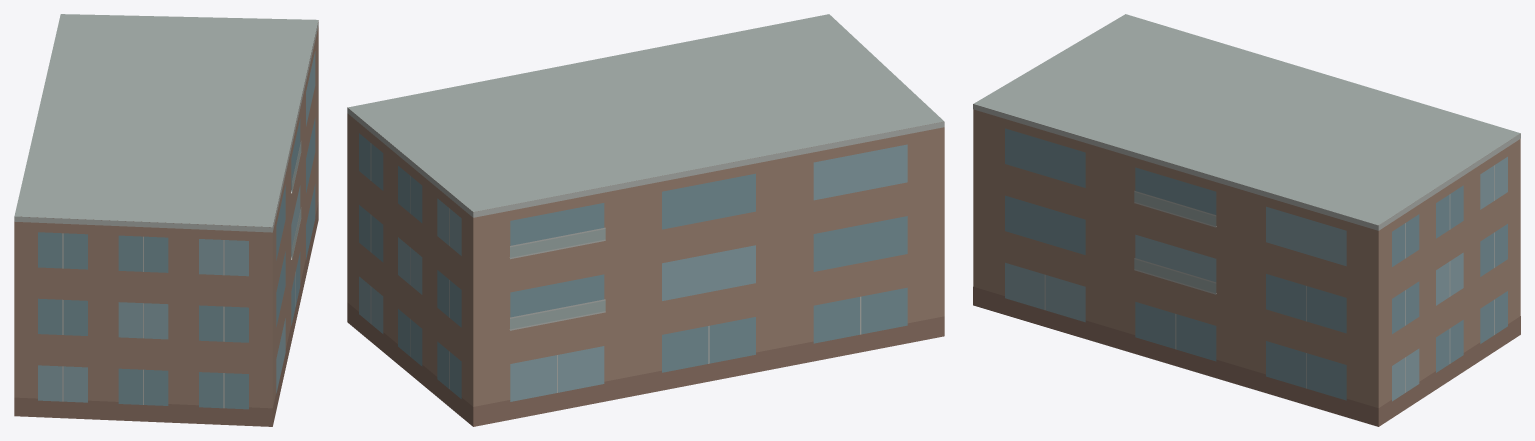
File: survey-upis-32777620.glb
3 renders of one model, left to right at view 1: azimuth 30°, elevation 25°; view 2: azimuth 150°, elevation 25°; view 3: azimuth 270°, elevation 25°, orthographic. The views are drawn at different scales.
Parts seen in each view (by area): view 1: survey-upis-32777620.tmp; view 2: survey-upis-32777620.tmp; view 3: survey-upis-32777620.tmp.
Boxes of the visible parts, x1,y1,x2,y2 form: survey-upis-32777620.tmp: (14, 14, 318, 426); survey-upis-32777620.tmp: (347, 14, 944, 426); survey-upis-32777620.tmp: (973, 14, 1520, 426).
Bounding box in the file's own units: 20.61 × 9.15 × 22.55.
